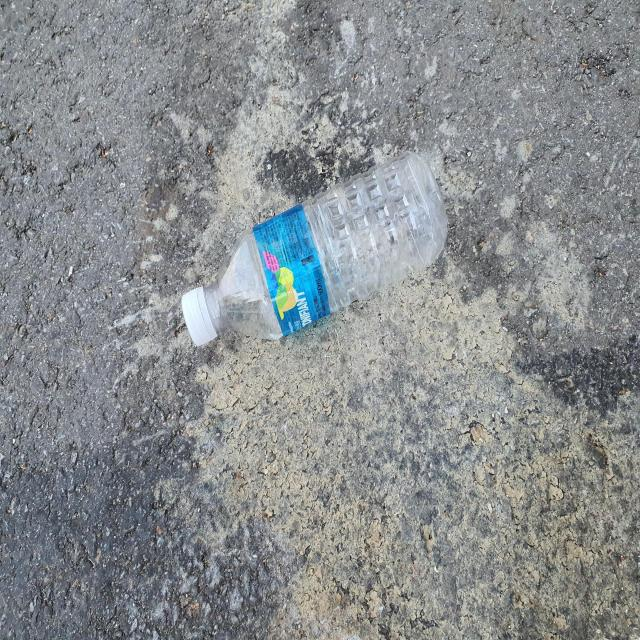plastic: (182, 152, 448, 346)
